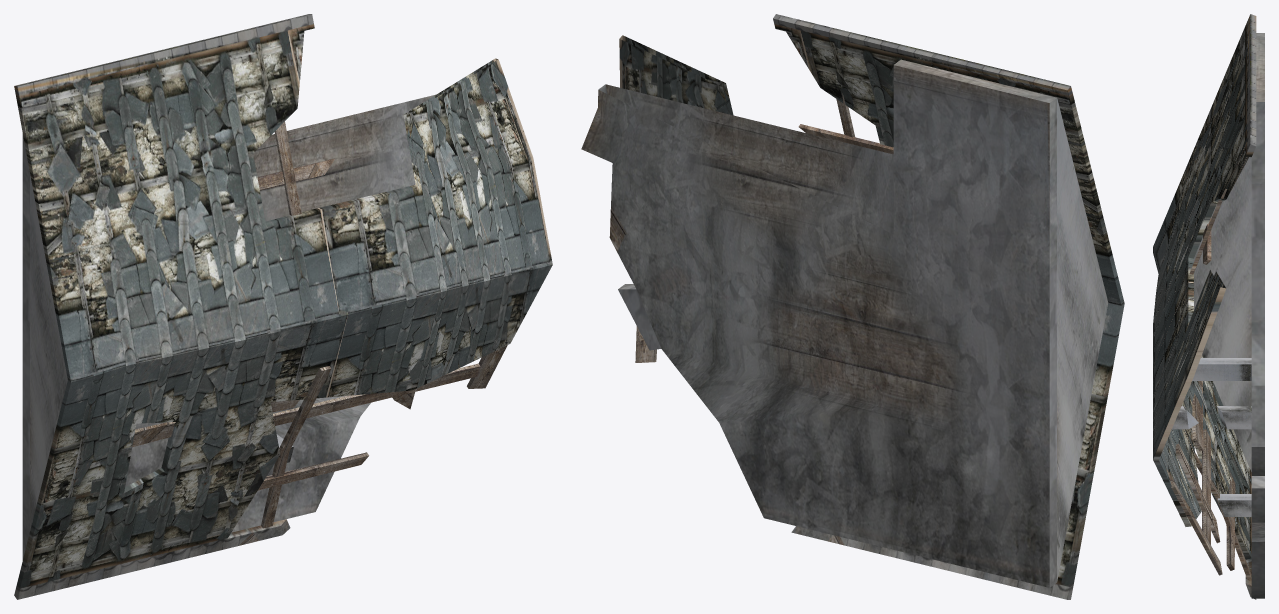
Rendered from dach_cln.obj.
3 views of the same model, side by side, from view 1: azimuth 30°, elevation 25°; view 2: azimuth 150°, elevation 25°; view 3: azimuth 270°, elevation 25° (orthographic). The views are drawn at different scales.
Visible parts, largest first — view 1: polySurface159; view 2: polySurface159; view 3: polySurface159.
Part boxes in pixels (<box>): polySurface159: <box>14,14,552,599</box>; polySurface159: <box>581,14,1124,599</box>; polySurface159: <box>1153,14,1264,599</box>.
Bounding box in the file's own units: 5.44 × 5.54 × 1.21.
Materials: 1 (1 with a texture image).
